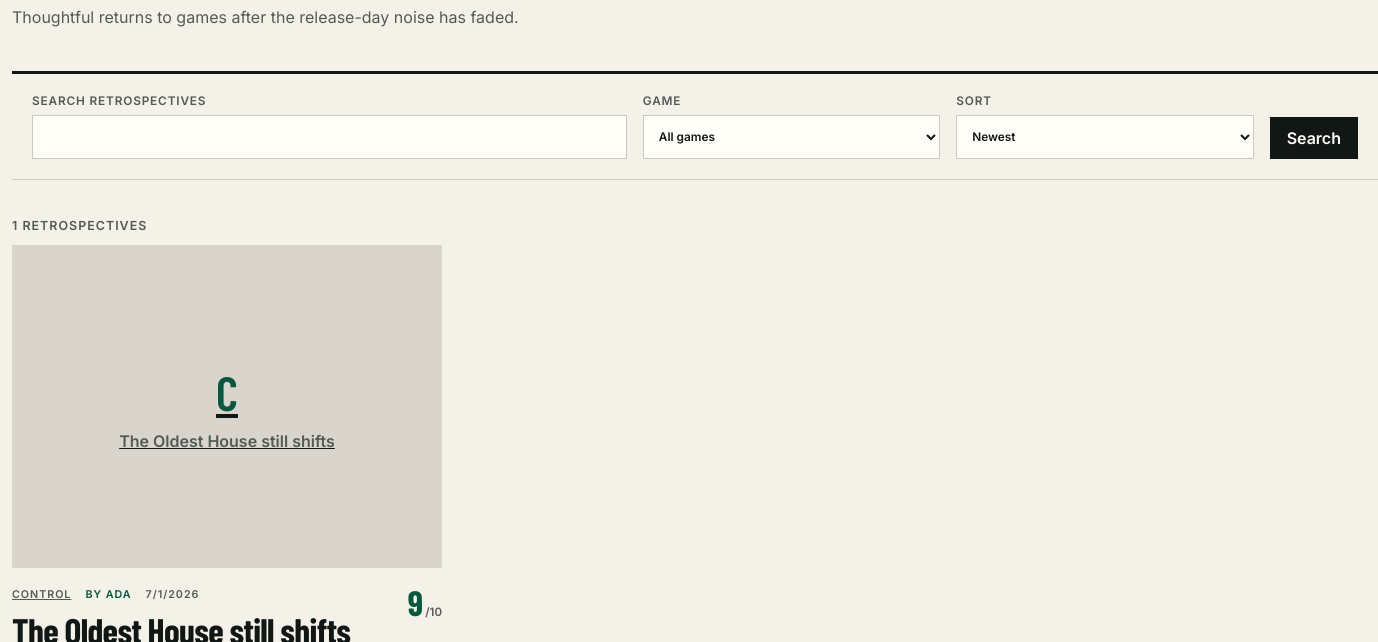
Test: updates sort in the URL and resets paging
Select "Best rated" in the dropdown labelled "Sort" at (1105, 137), box [956, 115, 1254, 159]
(page scrolled)
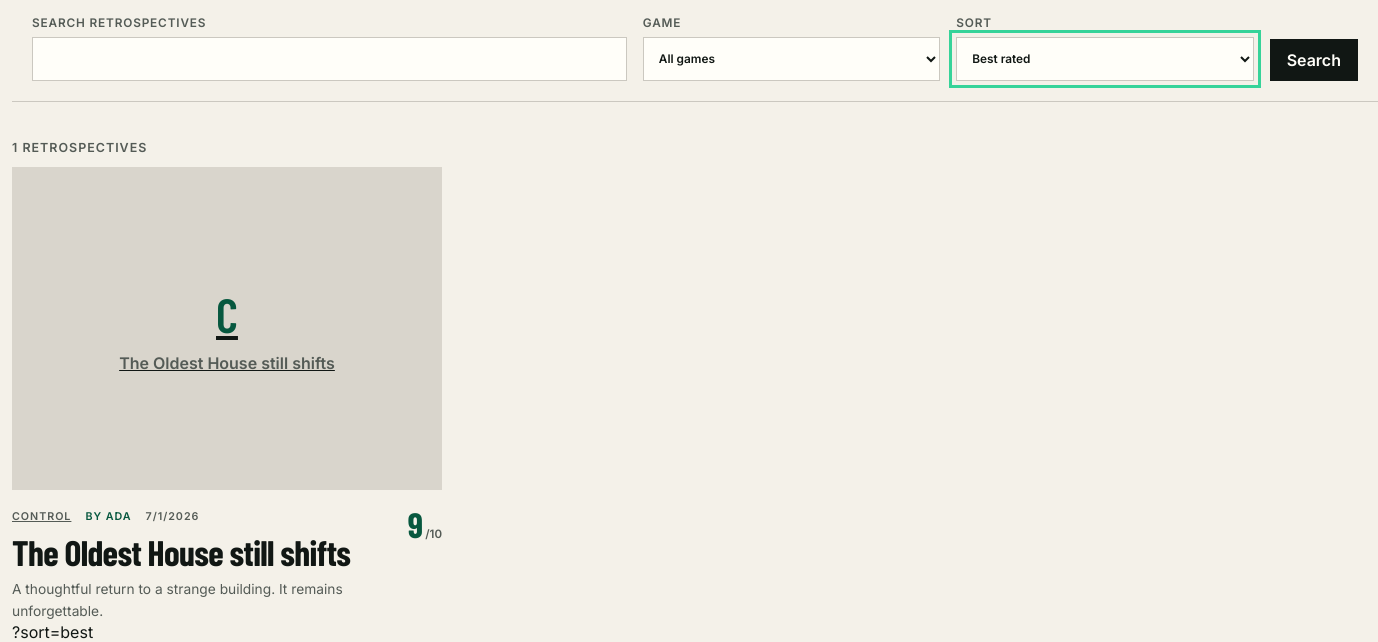
Expected: the text "?sort=best" is shown, [12, 622, 93, 641]
